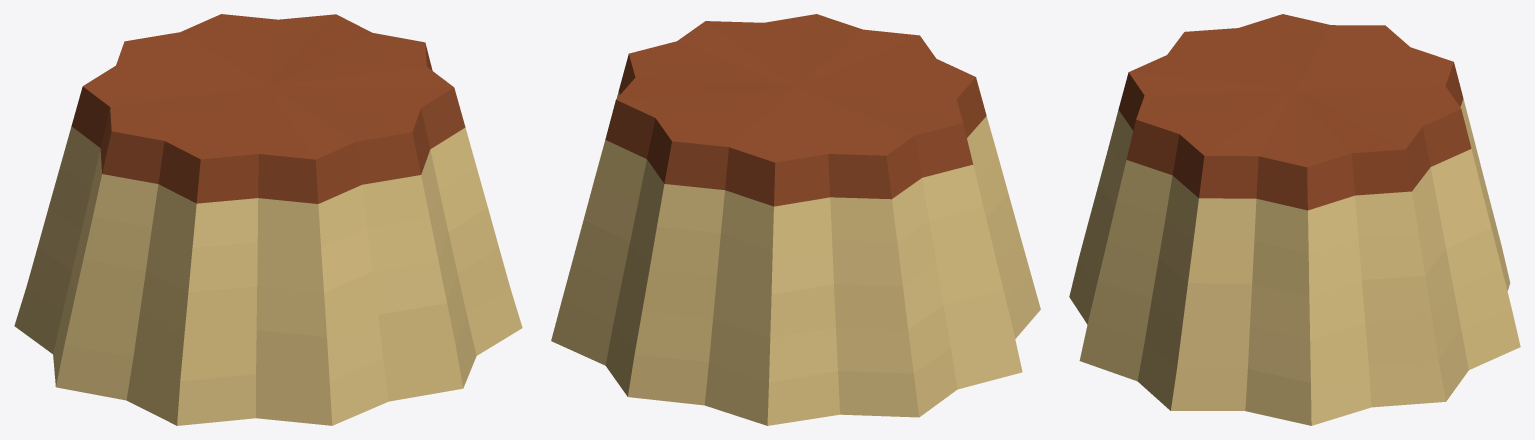
The model's file is pudding.glb.
3 renders of one model, left to right at view 1: azimuth 30°, elevation 25°; view 2: azimuth 150°, elevation 25°; view 3: azimuth 270°, elevation 25°, orthographic. The views are drawn at different scales.
Parts seen in each view (by area): view 1: pudding_body; view 2: pudding_body; view 3: pudding_body.
Boxes of the visible parts, x1,y1,x2,y2 form: pudding_body: [14, 14, 522, 425]; pudding_body: [551, 14, 1040, 425]; pudding_body: [1069, 14, 1520, 425].
Bounding box in the file's own units: 0.183 × 0.0952 × 0.168.
1 material, 1 textured.
